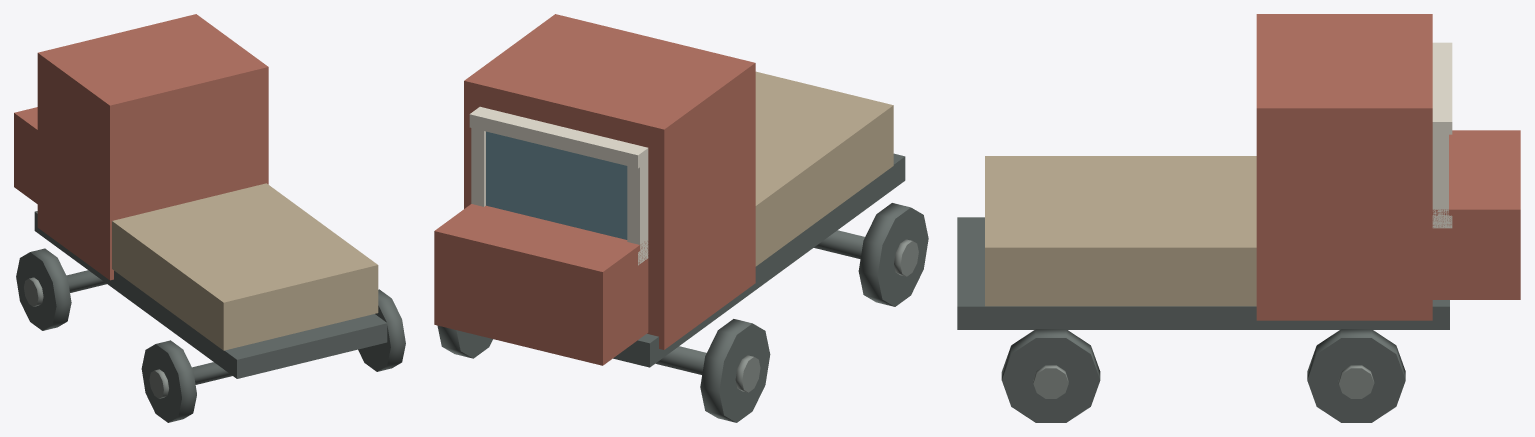
The model's file is rhine-truck_lod1.glb.
3 views of the same model, side by side, from view 1: azimuth 30°, elevation 25°; view 2: azimuth 150°, elevation 25°; view 3: azimuth 270°, elevation 25° (orthographic). The views are drawn at different scales.
Parts seen in each view (by area): view 1: RF_TruckCab, RF_CargoBed, RF_RoadChassis, RF_Wheel.003, RF_Wheel.001, RF_Bonnet, RF_Wheel.002, RF_Axle, RF_Axle.001, RF_WheelHub.003, RF_WheelHub.001; view 2: RF_TruckCab, RF_Bonnet, RF_CargoBed, RF_Window, RF_RoadChassis, RF_Wheel.001, RF_Wheel.003, RF_WindowSill, RF_WindowFrame.001, RF_WindowFrame, RF_Wheel, RF_Axle.001 (+3 smaller); view 3: RF_TruckCab, RF_CargoBed, RF_Bonnet, RF_RoadChassis, RF_Wheel.002, RF_Wheel, RF_WindowSill, RF_WindowFrame, RF_WheelHub, RF_WheelHub.002.
Boxes of the visible parts, x1,y1,x2,y2 form: RF_TruckCab: (37,14,268,280); RF_CargoBed: (112,183,378,350); RF_RoadChassis: (34,211,387,378); RF_Wheel.003: (16,248,71,330); RF_Wheel.001: (141,340,196,422); RF_Bonnet: (14,107,37,203); RF_Wheel.002: (358,289,405,371); RF_Axle: (66,270,106,292); RF_Axle.001: (192,362,232,384); RF_WheelHub.003: (24,277,43,306); RF_WheelHub.001: (149,369,168,398); RF_TruckCab: (464,14,755,349); RF_Bonnet: (434,204,648,365); RF_CargoBed: (755,71,893,266); RF_Window: (486,131,627,239); RF_RoadChassis: (613,153,905,367); RF_Wheel.001: (858,203,928,306); RF_Wheel.003: (700,319,770,422); RF_WindowSill: (469,106,643,168); RF_WindowFrame.001: (627,145,648,263); RF_WindowFrame: (471,107,490,206); RF_Wheel: (437,325,492,358); RF_Axle.001: (814,230,864,259); RF_TruckCab: (1256,14,1432,320); RF_CargoBed: (985,156,1256,306); RF_Bonnet: (1432,130,1520,299); RF_RoadChassis: (957,217,1449,329); RF_Wheel.002: (1001,329,1100,422); RF_Wheel: (1307,329,1405,422); RF_WindowSill: (1432,42,1452,134); RF_WindowFrame: (1432,116,1448,228); RF_WheelHub: (1338,365,1374,398); RF_WheelHub.002: (1033,365,1068,398).
Size of the model in its own units: 2.8 by 2.78 by 4.8.
